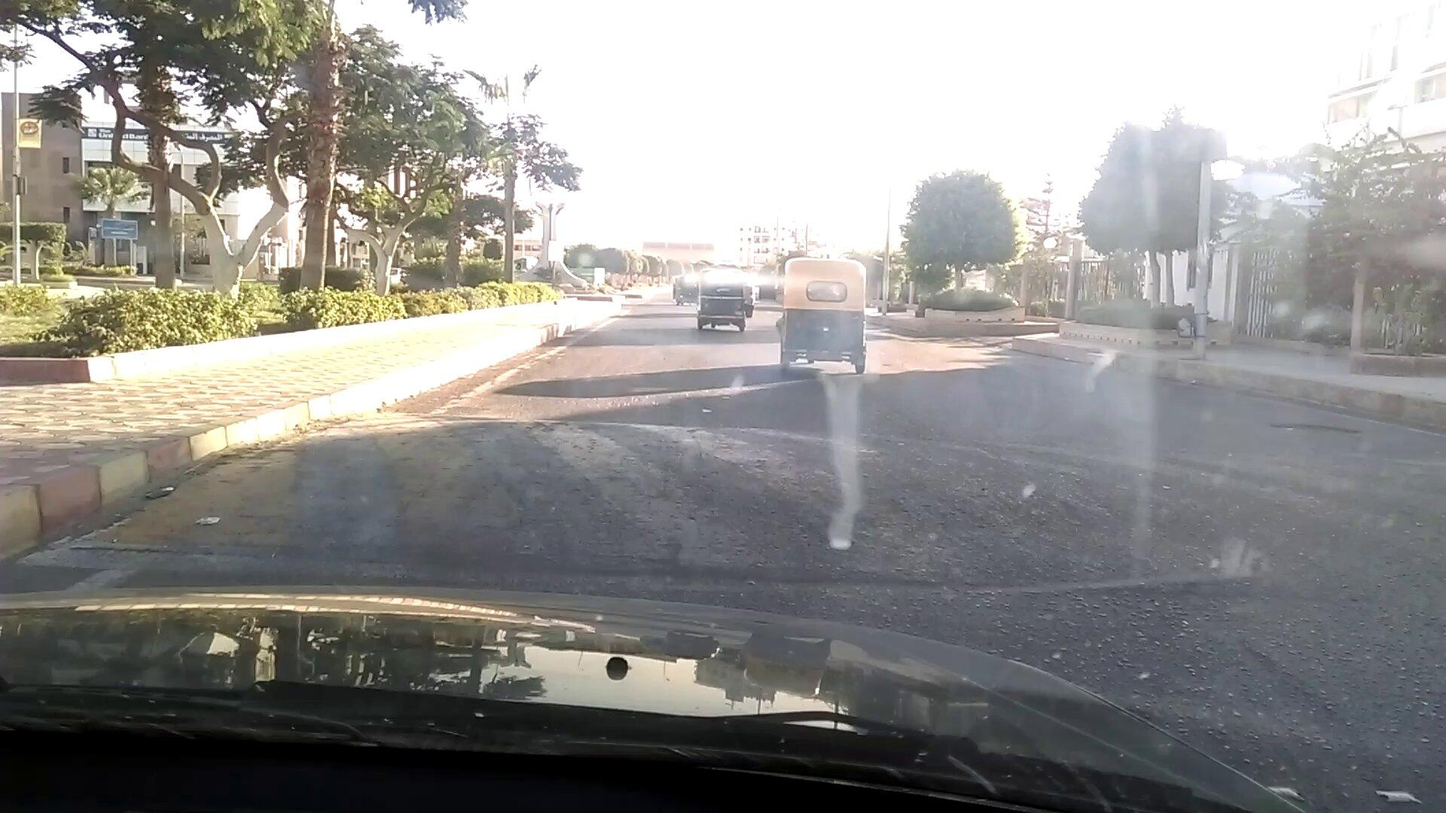Bump: (365, 437, 1446, 606)
